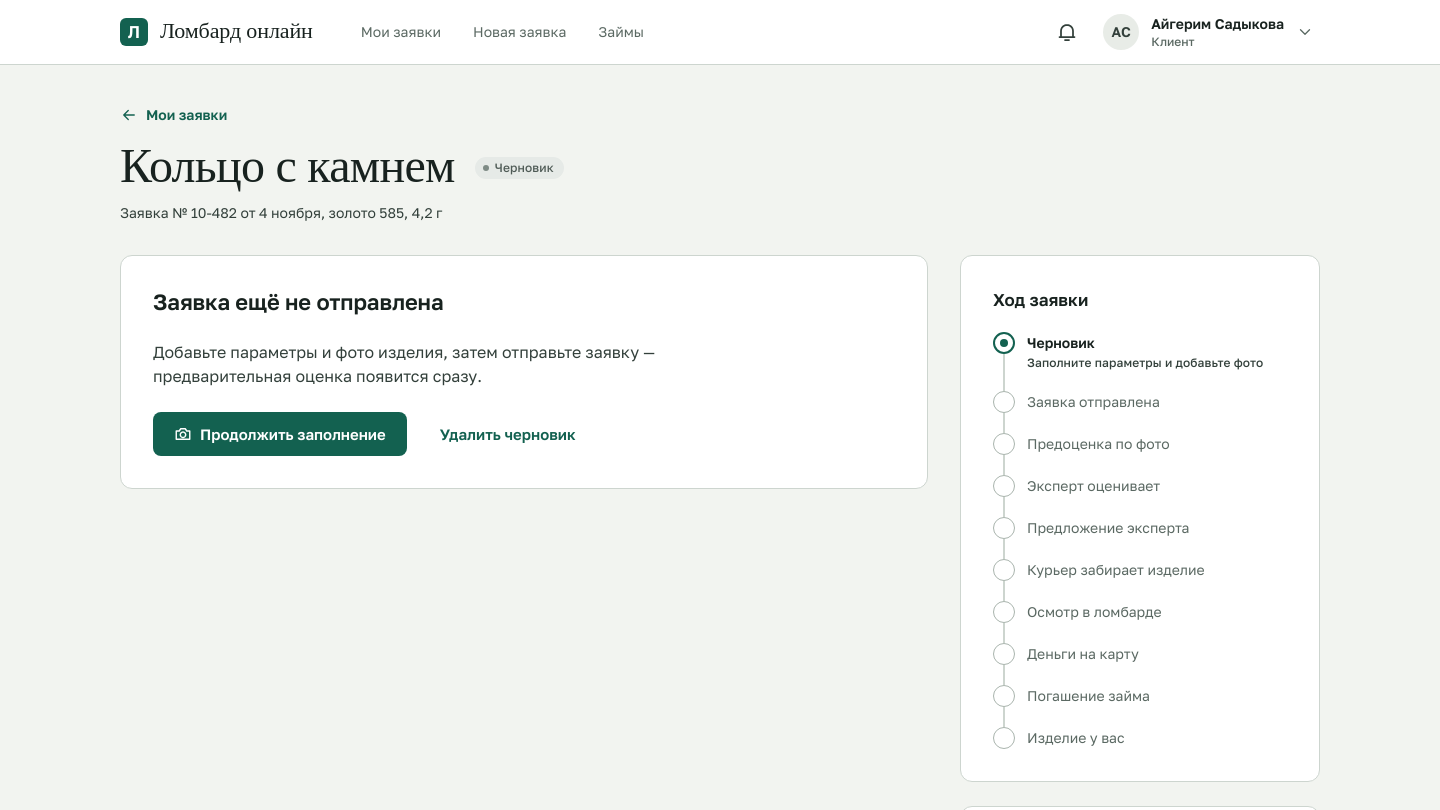
Test: Application card › deletes a draft after confirmation
This screenshot has width=1440, height=810.
Click the button "Удалить черновик". click: (508, 434)
box: [431,412,584,456]
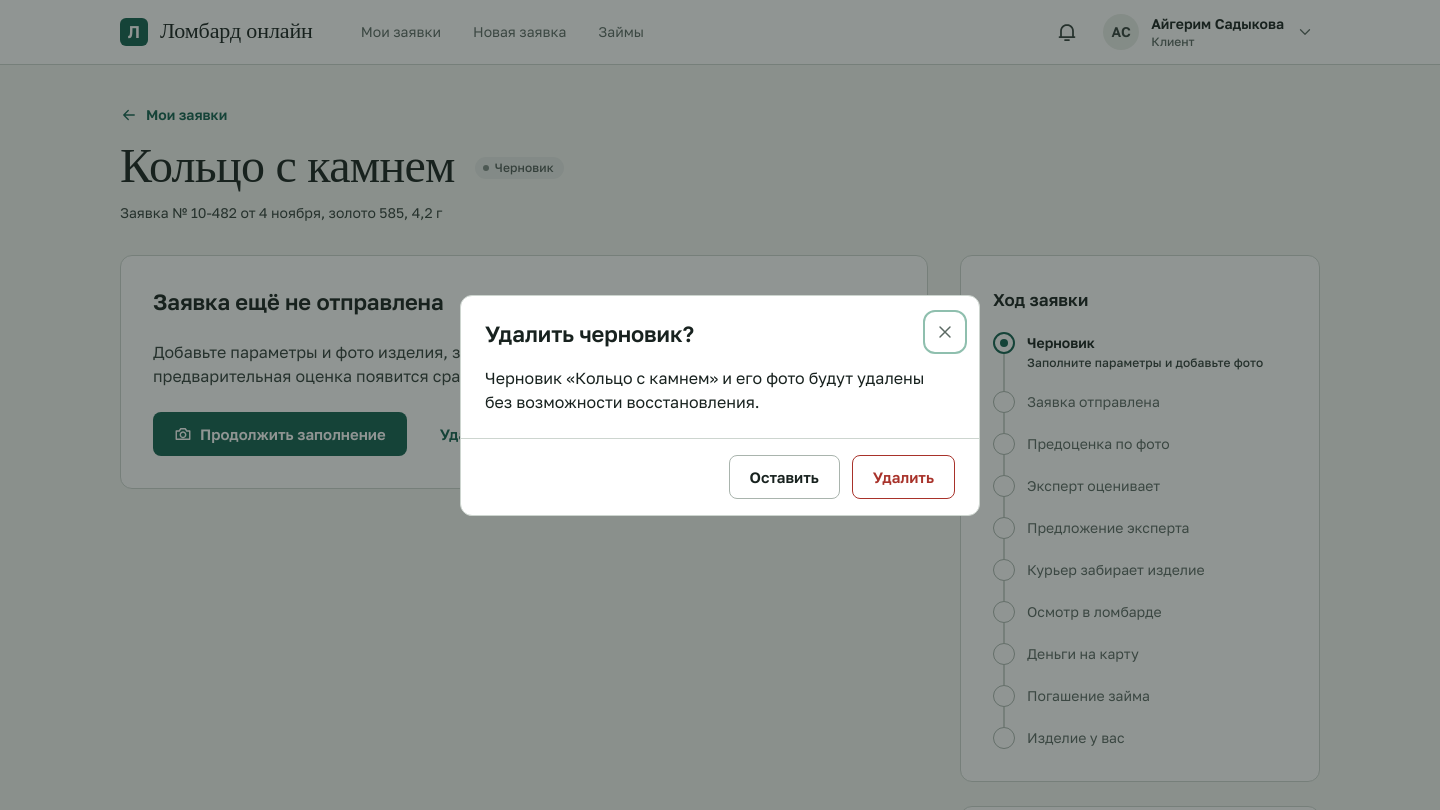
Click the button "Удалить". click: (903, 476)
box: [852,454,955,498]
(page scrolled)
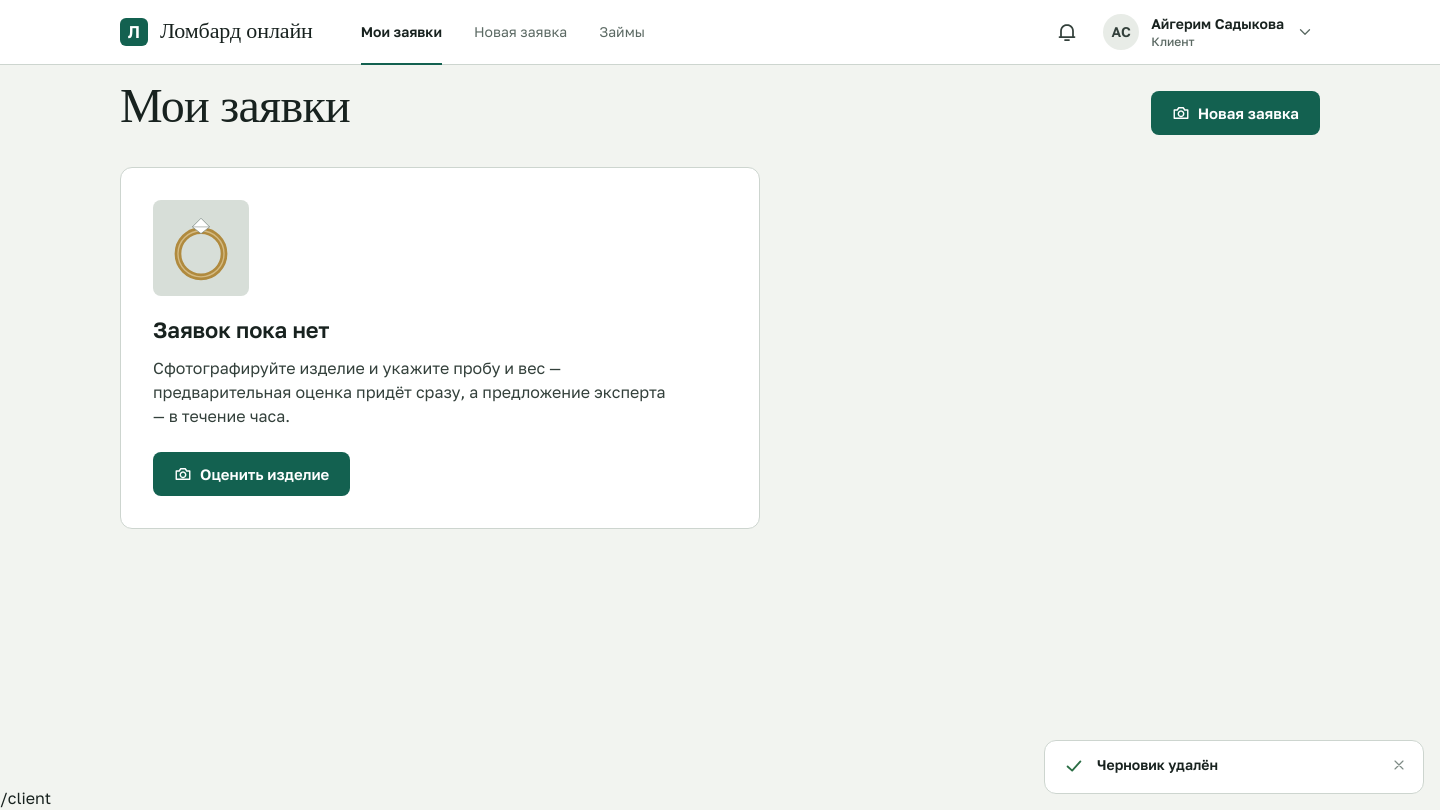
Expected: the text with test id "location" reads "/client", [0,788,51,808]
